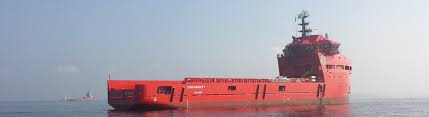ship: (106, 12, 360, 107)
